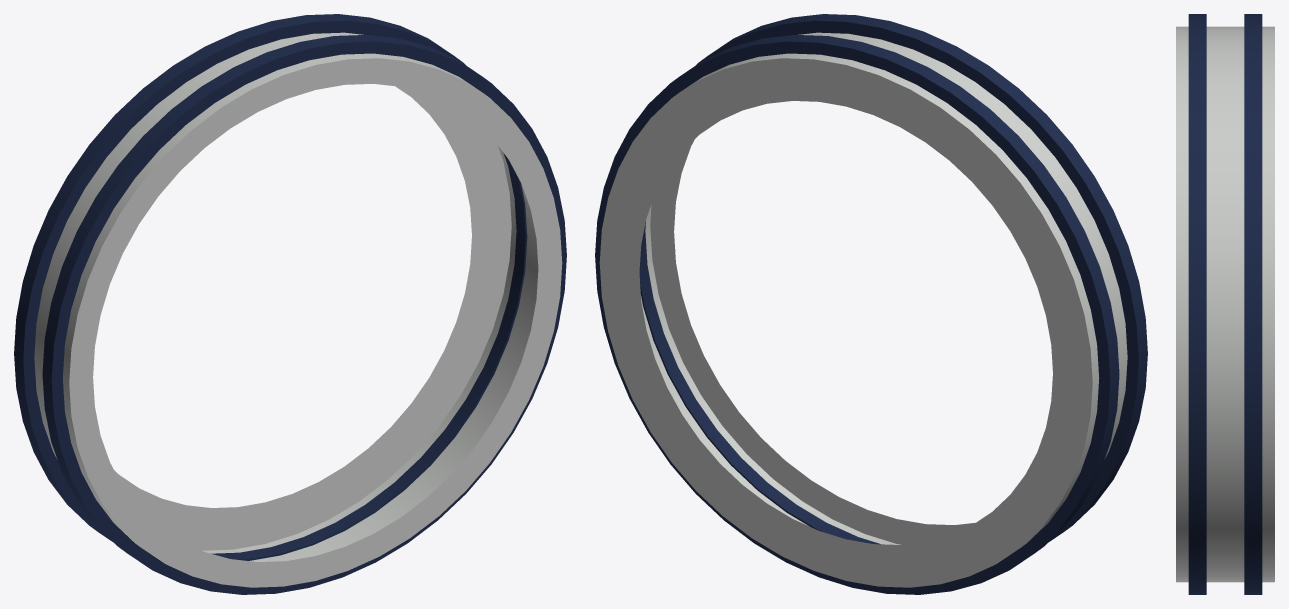
Rendered from srw_formation_fore.obj.
The picture shows the model from 3 angles, left to right: view 1: azimuth 30°, elevation 25°; view 2: azimuth 150°, elevation 25°; view 3: azimuth 270°, elevation 25°; orthographic projection. The views are drawn at different scales.
Visible parts, largest first — view 1: srw_formation_fore; view 2: srw_formation_fore; view 3: srw_formation_fore.
Part boxes in pixels (bbox=[...]): srw_formation_fore: bbox=[14, 14, 566, 594]; srw_formation_fore: bbox=[595, 14, 1147, 594]; srw_formation_fore: bbox=[1176, 14, 1274, 594].
Size of the model in its own units: 2.72 by 2.72 by 0.461.
